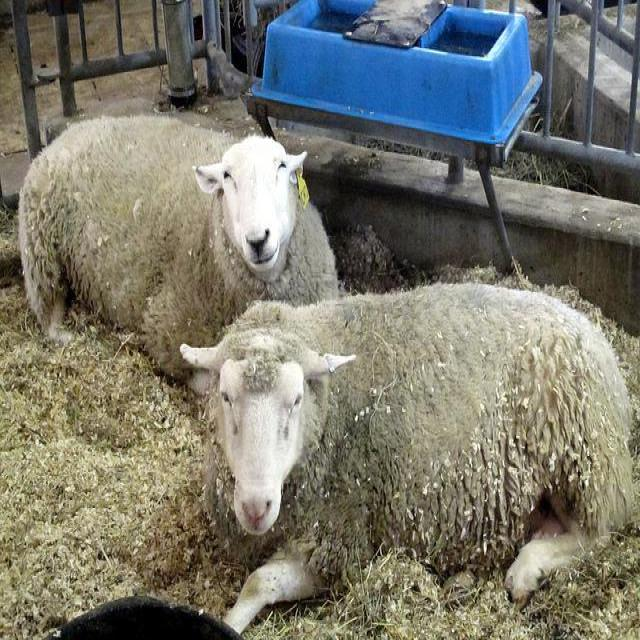Sheep: (179, 282, 637, 634), (19, 114, 344, 390)
